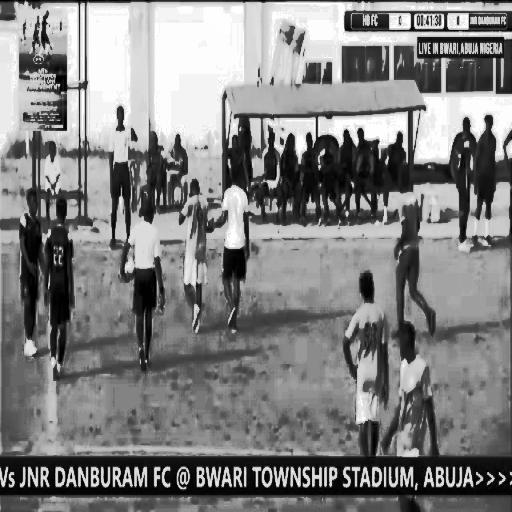ball: (123, 243, 135, 285)
distract: (257, 126, 392, 227), (394, 162, 442, 326), (212, 163, 255, 332), (449, 114, 475, 254), (142, 127, 192, 190), (42, 136, 66, 192)
referee: (134, 202, 166, 371), (107, 103, 131, 237)
team1: (334, 272, 392, 454), (390, 323, 436, 455), (182, 177, 211, 325)
team2: (42, 186, 77, 382), (19, 190, 43, 360), (476, 116, 500, 249)
